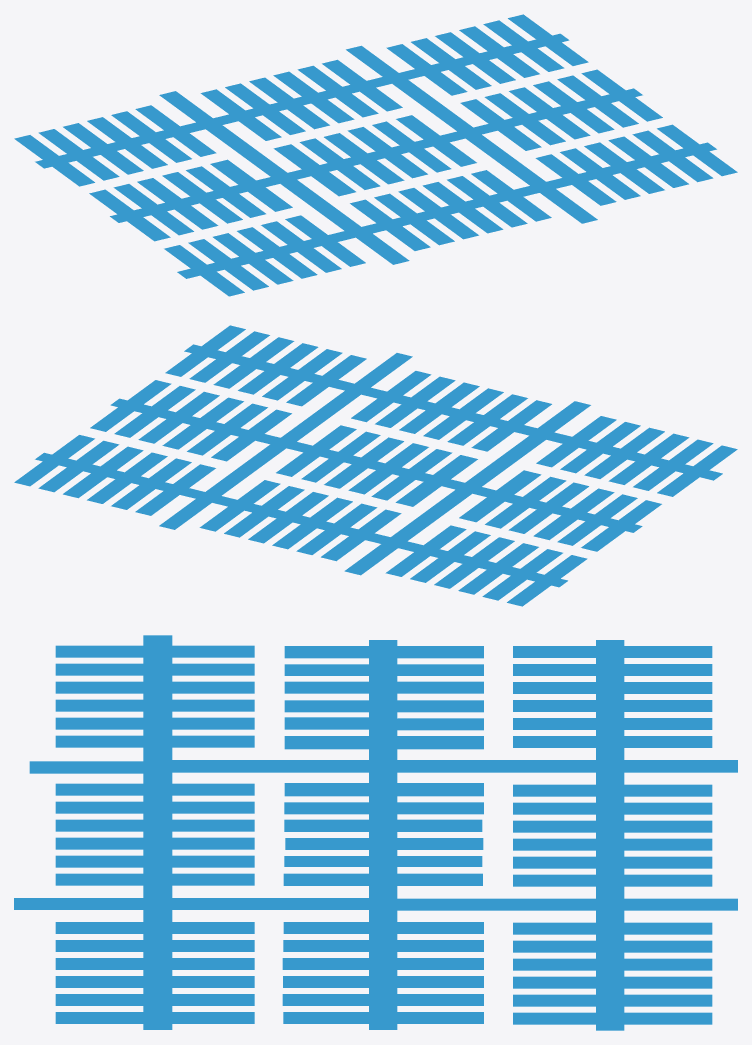
File: modeMap.gltf
3 renders of one model, top to bottom at view 1: azimuth 30°, elevation 25°; view 2: azimuth 150°, elevation 25°; view 3: azimuth 270°, elevation 25°, orthographic. The views are drawn at different scales.
Parts seen in each view (by area): view 1: Navmesh; view 2: Navmesh; view 3: Navmesh.
Boxes of the visible parts, box(x1,y1,x2,y2) form: Navmesh: box(14, 14, 737, 296); Navmesh: box(14, 325, 737, 606); Navmesh: box(14, 635, 737, 1030).
Bounding box in the file's own units: 32.93 × 0.0169 × 25.48.
